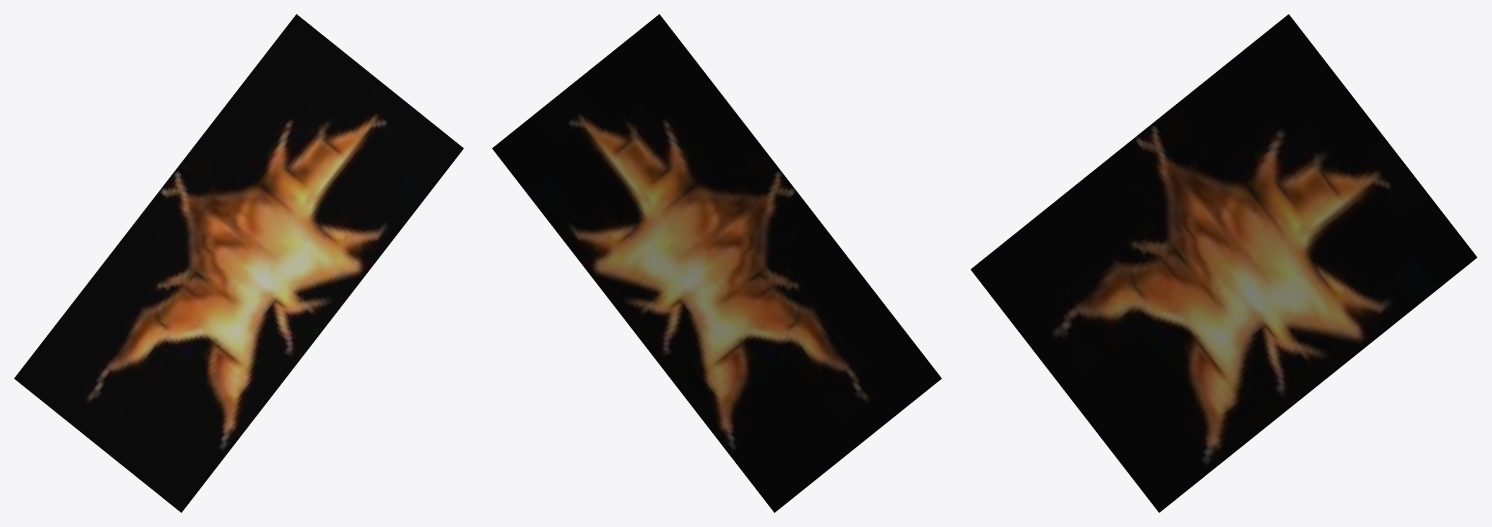
The model's file is EarthQuake01.glb.
3 views of the same model, side by side, from view 1: azimuth 30°, elevation 25°; view 2: azimuth 150°, elevation 25°; view 3: azimuth 330°, elevation 25° (orthographic). The views are drawn at different scales.
Parts seen in each view (by area): view 1: model_EarthQuake01; view 2: model_EarthQuake01; view 3: model_EarthQuake01.
Boxes of the visible parts, x1,y1,x2,y2 form: model_EarthQuake01: [14, 14, 463, 512]; model_EarthQuake01: [492, 14, 941, 512]; model_EarthQuake01: [970, 14, 1477, 512].
Bounding box in the file's own units: 1.27 × 1.27 × 0.
Materials: 1 (1 with a texture image).
